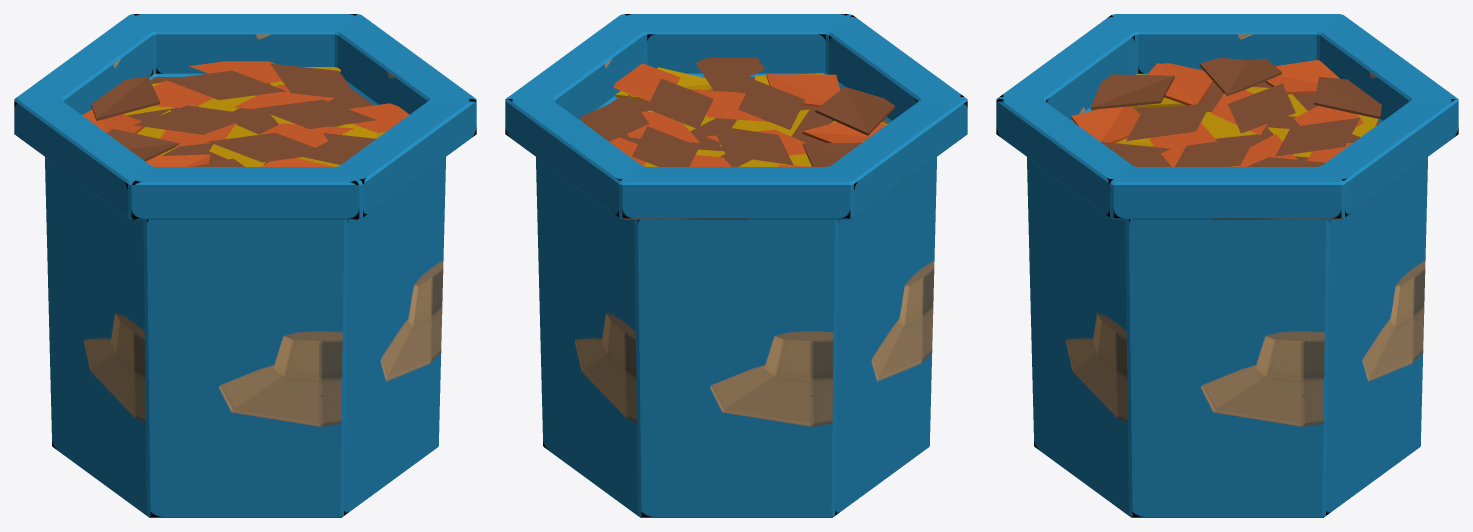
The model's file is leafBag.fbx.
3 renders of one model, left to right at view 1: azimuth 30°, elevation 25°; view 2: azimuth 150°, elevation 25°; view 3: azimuth 270°, elevation 25°, orthographic.
Parts seen in each view (by area): view 1: Cylinder, Cube.002, Cube.001, Cube, Cylinder.001; view 2: Cylinder, Cube.002, Cube.001, Cube, Cylinder.001; view 3: Cylinder, Cube.002, Cube.001, Cube, Cylinder.001.
Part boxes in pixels (x1=…): Cylinder: x1=14, y1=14, x2=476, y2=517; Cube.002: x1=91, y1=63, x2=376, y2=166; Cube.001: x1=82, y1=61, x2=409, y2=166; Cube: x1=123, y1=67, x2=385, y2=166; Cylinder.001: x1=127, y1=77, x2=373, y2=164; Cylinder: x1=505, y1=14, x2=967, y2=517; Cube.002: x1=580, y1=57, x2=894, y2=166; Cube.001: x1=609, y1=63, x2=885, y2=166; Cube: x1=615, y1=67, x2=887, y2=166; Cylinder.001: x1=610, y1=77, x2=888, y2=166; Cylinder: x1=996, y1=14, x2=1458, y2=517; Cube.002: x1=1090, y1=57, x2=1381, y2=166; Cube.001: x1=1071, y1=60, x2=1363, y2=166; Cube: x1=1115, y1=74, x2=1378, y2=166; Cylinder.001: x1=1091, y1=82, x2=1379, y2=166.
Bounding box in the file's own units: 232 × 223 × 267.
